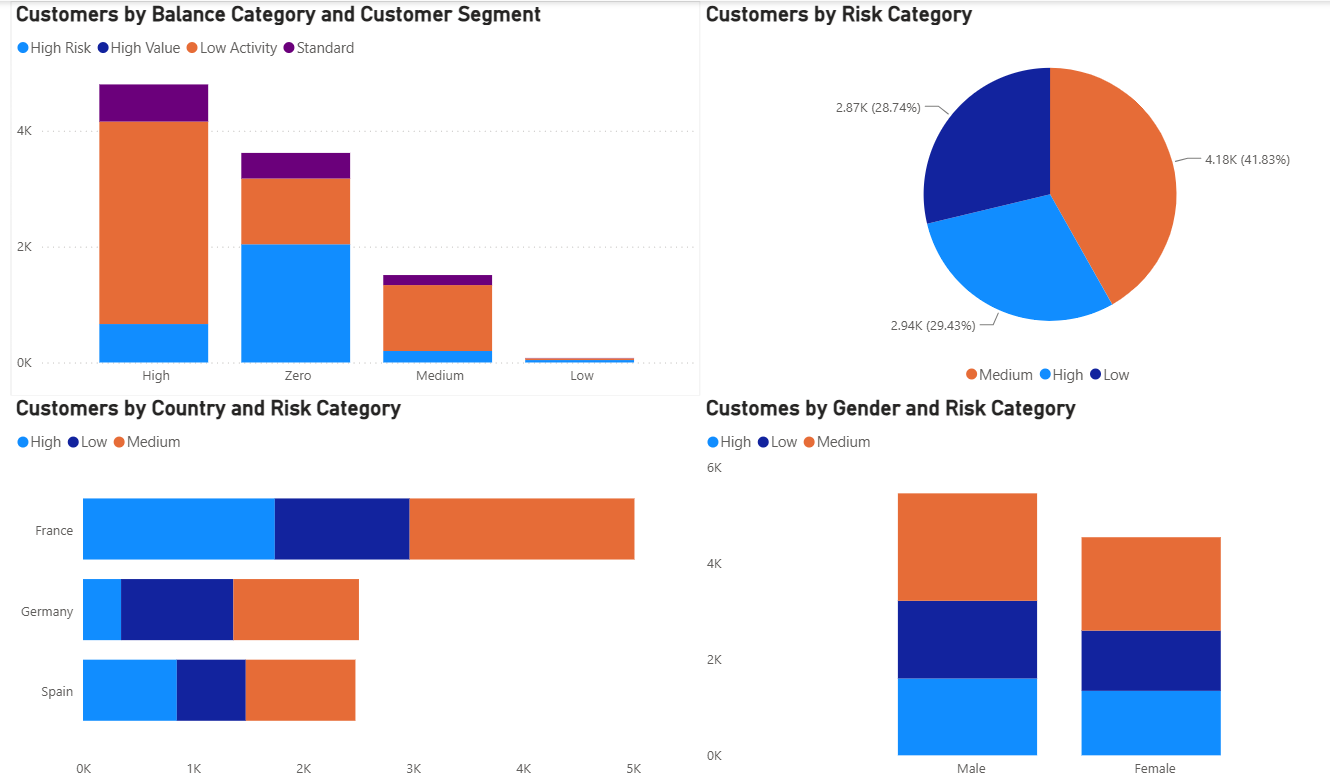

This screenshot's page, from the dashboard's own definition file:
{"tool":"powerbi","page":{"name":"Customer Risk Analytics","canvas":[1280,720],"ordinal":1},"visuals":[{"type":"columnChart","title":"Customers by Balance Category and Customer Segment","fields":{"Category":["customer_risk.balance_category"],"Y":["CountNonNull(customer_risk.customer_id)"],"Series":["customer_risk.customer_segment"]},"box":[9.1,0,631.4,360.4],"z":0},{"type":"pieChart","title":"Customers by Risk Category","fields":{"Category":["customer_risk.risk_category"],"Y":["CountNonNull(customer_risk.customer_id)"]},"box":[640.5,0,639,360.4],"z":1000},{"type":"barChart","title":"Customers by Country and Risk Category","fields":{"Category":["customer_risk.country"],"Series":["customer_risk.risk_category"],"Y":["CountNonNull(customer_risk.customer_id)"]},"box":[9.1,360.4,631.4,358.9],"z":1001},{"type":"columnChart","title":"Customes by Gender and Risk Category","fields":{"Category":["customer_risk.gender"],"Series":["customer_risk.risk_category"],"Y":["CountNonNull(customer_risk.customer_id)"]},"box":[640.5,360.4,639,358.9],"z":1002}]}

Visuals, with their boxes on the page's 1280x720 design canvas (x1, y1, x2, y2). These are canvas units, not pixel positions in the 1330x781 screenshot, which may show the page scaled, cropped or inside an application window:
"Customers by Balance Category and Customer Segment" columnChart: <bbox>9, 0, 640, 360</bbox>
"Customers by Risk Category" pieChart: <bbox>640, 0, 1280, 360</bbox>
"Customers by Country and Risk Category" barChart: <bbox>9, 360, 640, 719</bbox>
"Customes by Gender and Risk Category" columnChart: <bbox>640, 360, 1280, 719</bbox>
